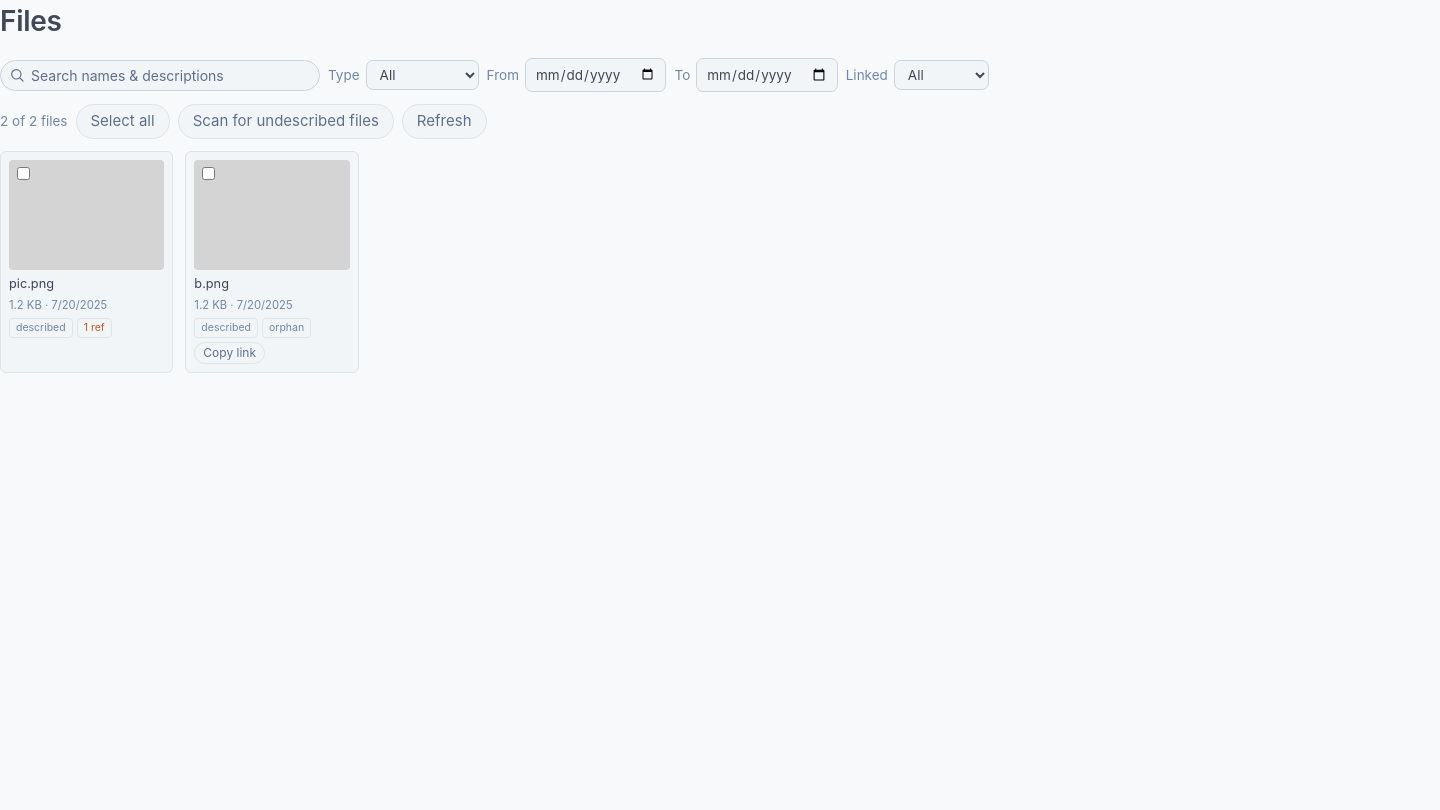
Test case: Files › goes loud when a linked file is selected and survives failures
Click the checkbox named "Select pic.png" at {"x": 24, "y": 173}, box top-left (17, 167), bottom-right (30, 180)
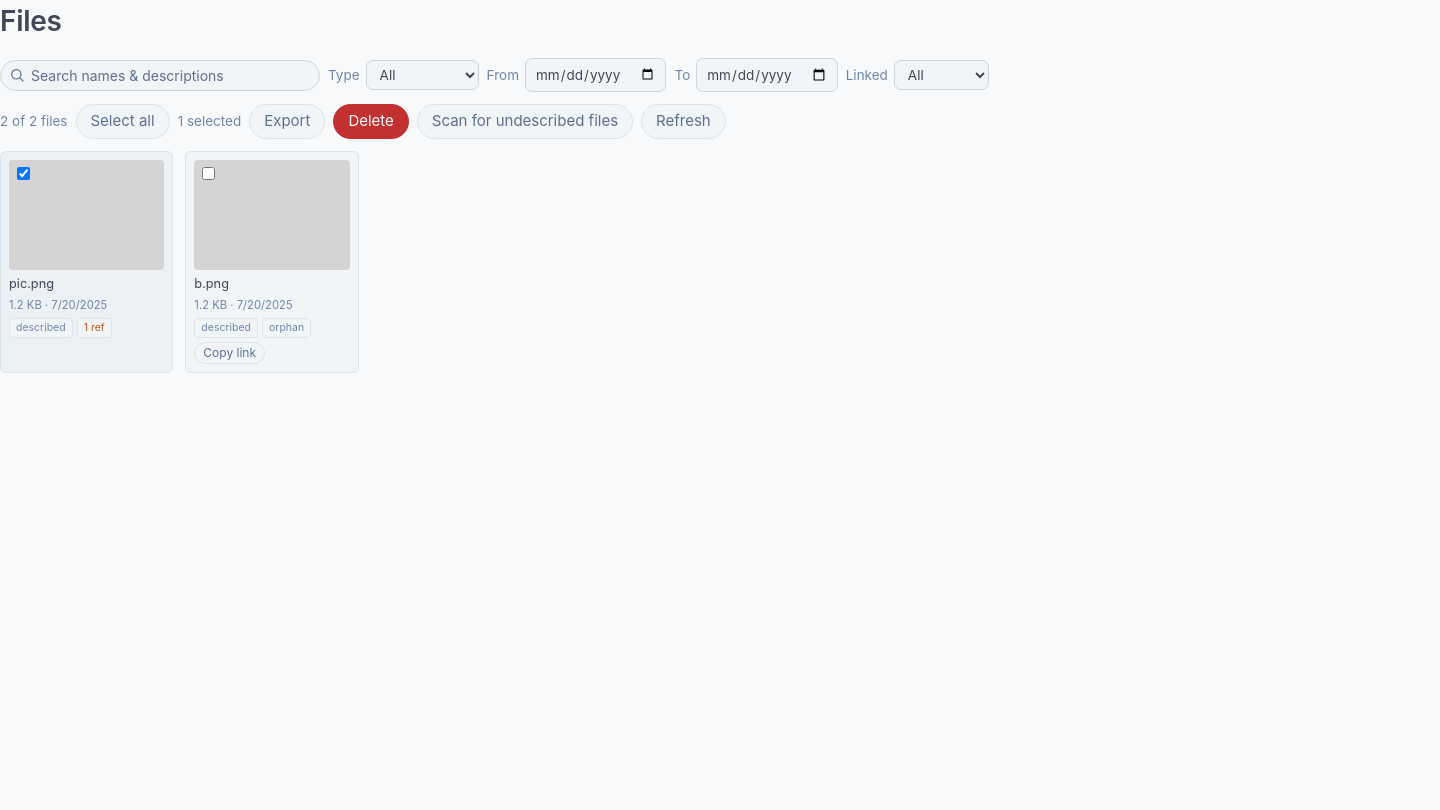
Click the checkbox named "Select b.png" at {"x": 209, "y": 173}, box top-left (202, 167), bottom-right (215, 180)
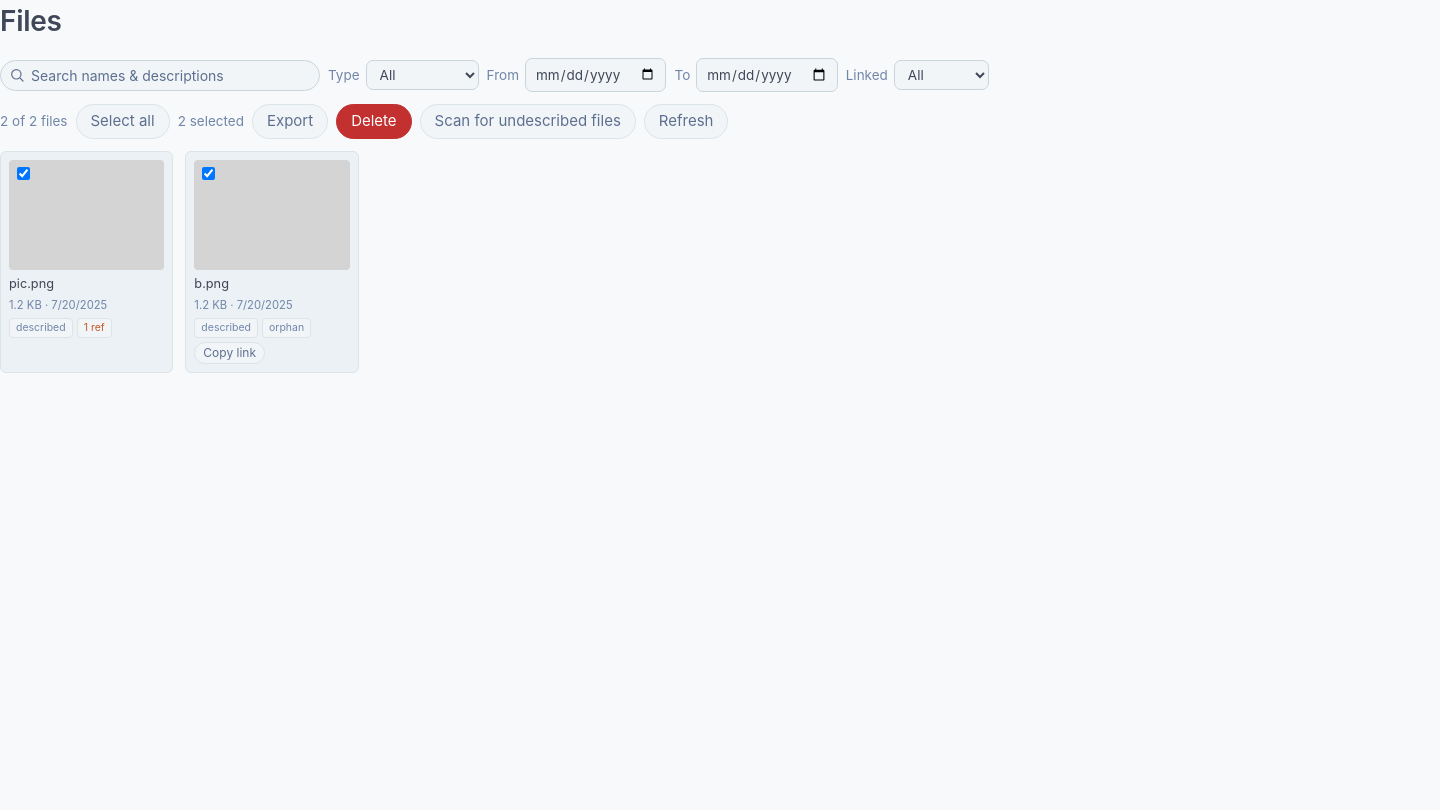
Click the button "Delete" at {"x": 374, "y": 122}, box top-left (336, 104), bottom-right (412, 139)
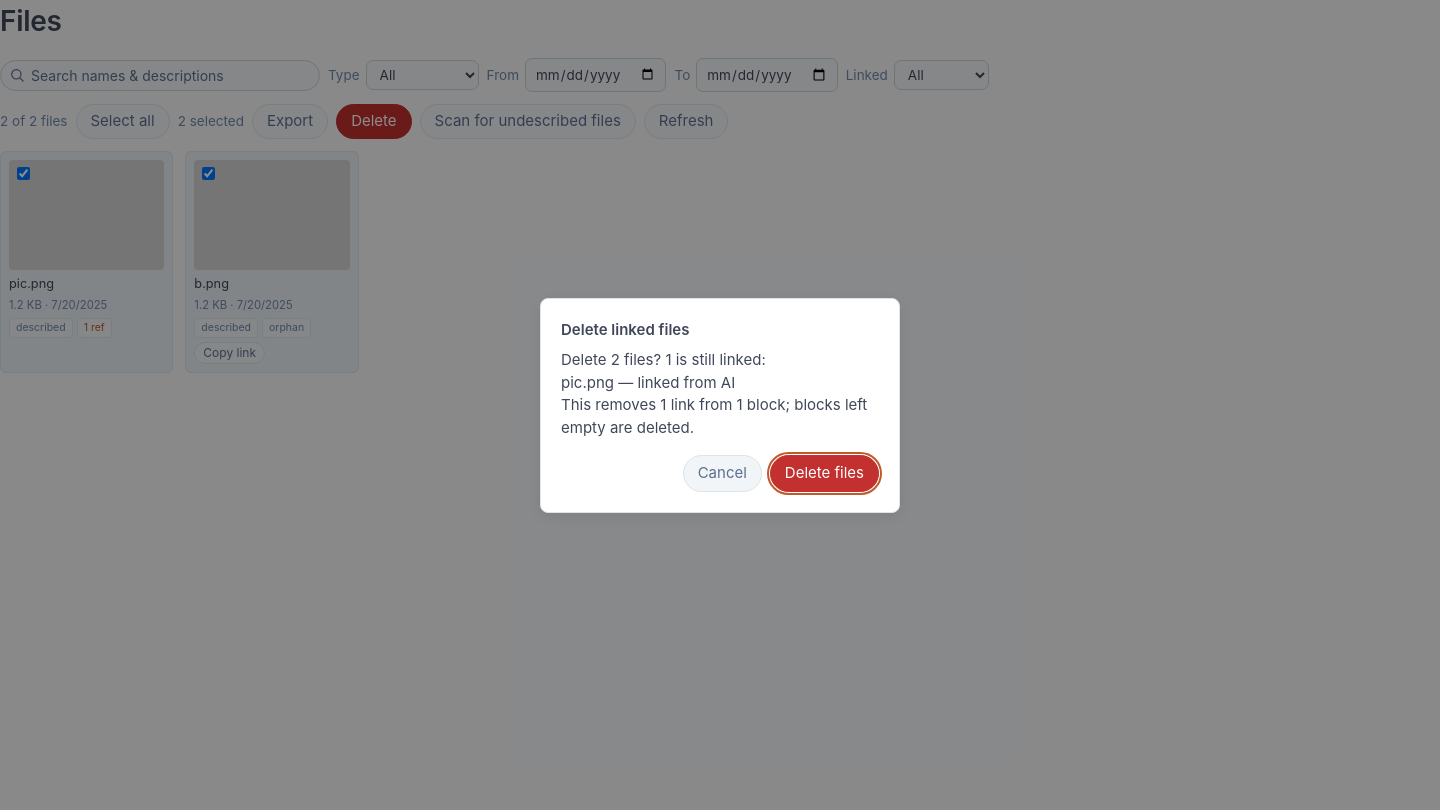
Expected: the text "still linked" is shown, top-left (561, 350), bottom-right (867, 436)
Click the button "Delete files" at {"x": 824, "y": 473}, box top-left (770, 455), bottom-right (879, 492)
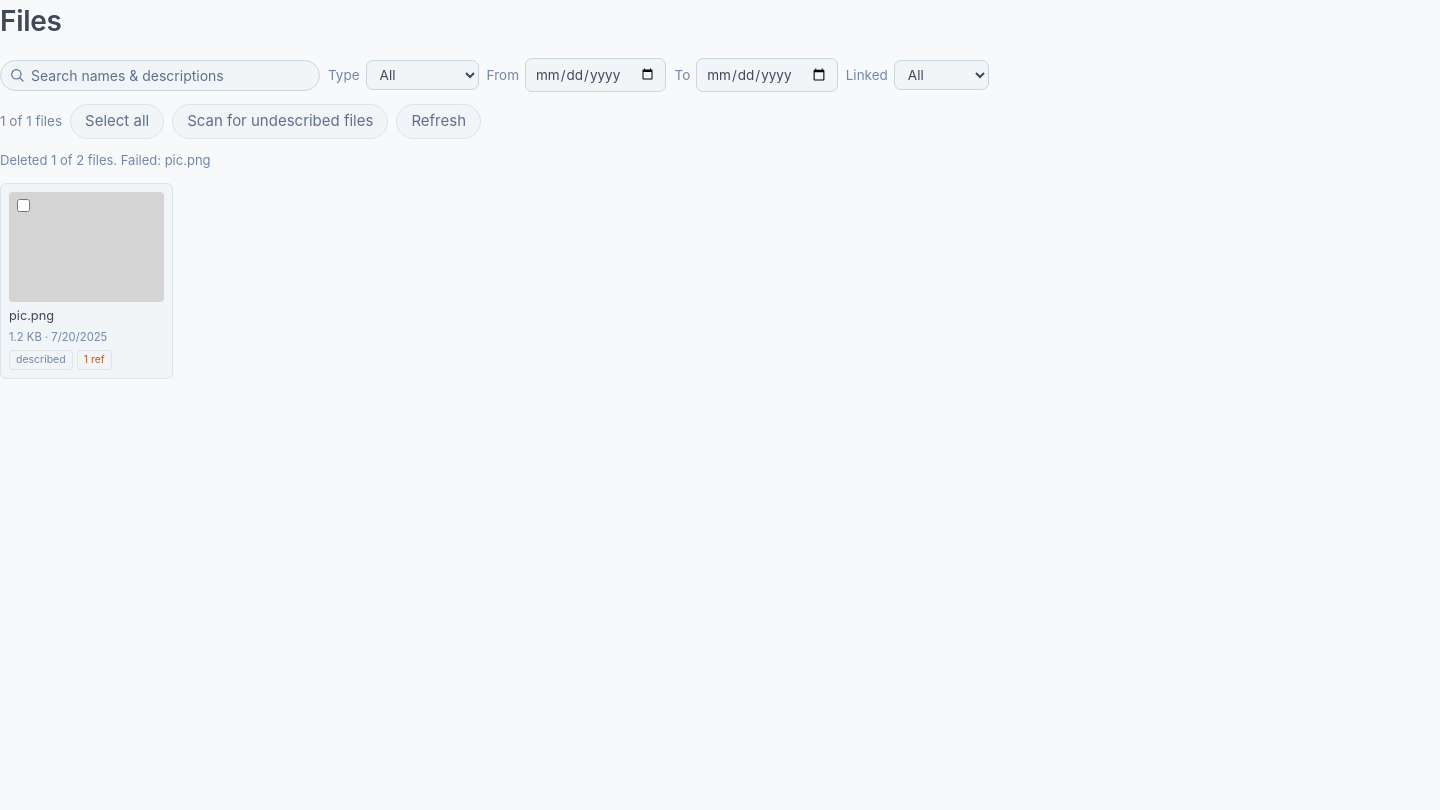
Expected: the text "Deleted 1 of 2 files. Failed: pic.png" is shown, top-left (0, 152), bottom-right (210, 168)
